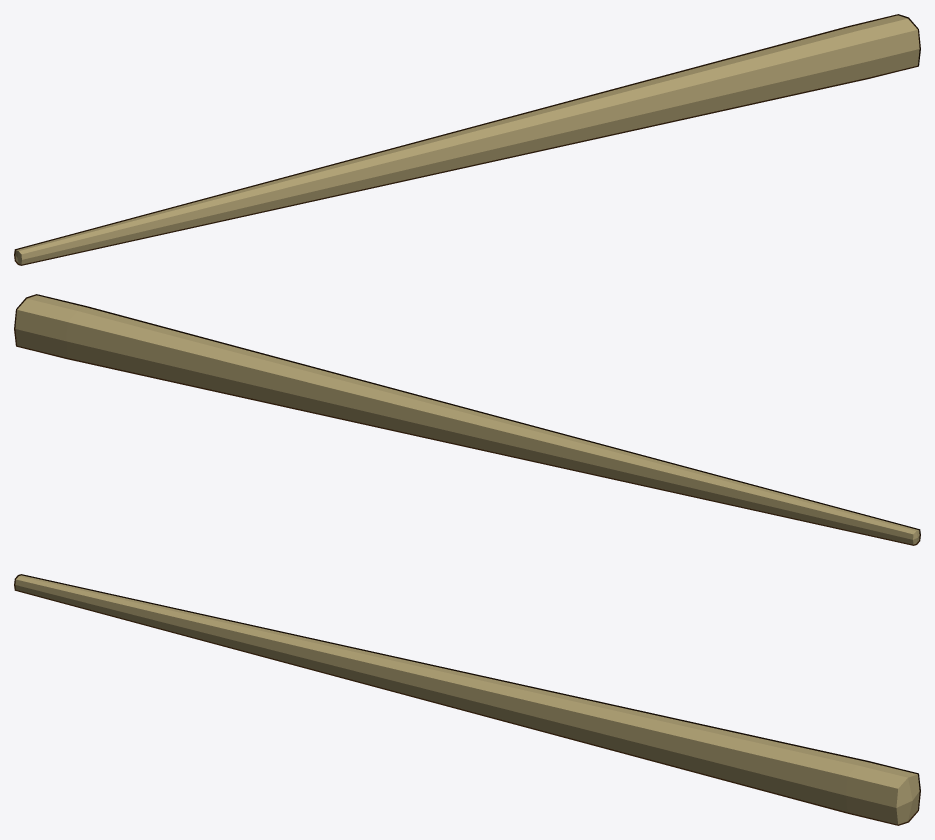
The model's file is Single_Chopstick_(Outlined)v002.fbx.
3 views of the same model, one above another, from view 1: azimuth 30°, elevation 25°; view 2: azimuth 150°, elevation 25°; view 3: azimuth 330°, elevation 25° (orthographic).
Visible parts, largest first — view 1: Cube; view 2: Cube; view 3: Cube.
Boxes of the visible parts, box(x1,y1,x2,y2) form: Cube: box(14, 14, 920, 265); Cube: box(14, 294, 920, 545); Cube: box(14, 574, 920, 825).
Bounding box in the file's own units: 3546 × 175 × 168.
